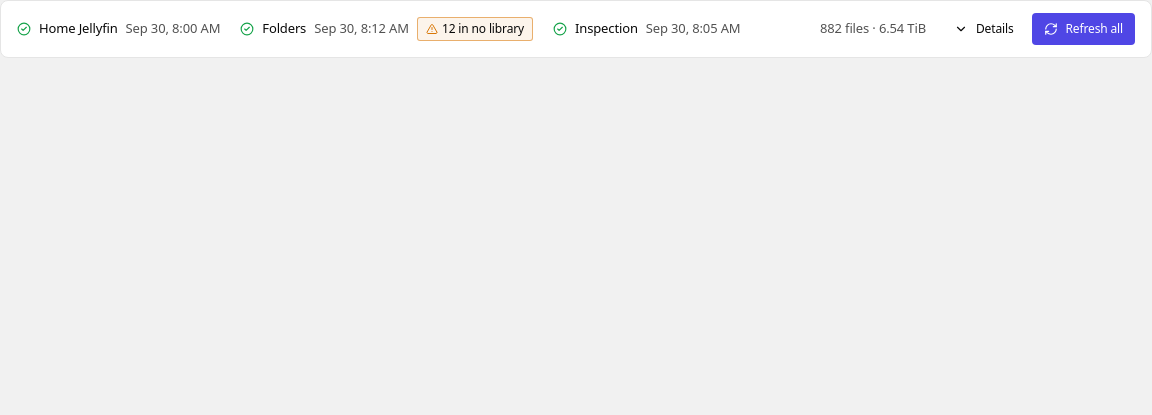
Test: LibrarySyncPanel space › counts a file two hardlinks lead to once in its source's row, under the files line
Click the button "Details". click: {"x": 984, "y": 29}
box: x1=942 y1=13 x2=1026 y2=45
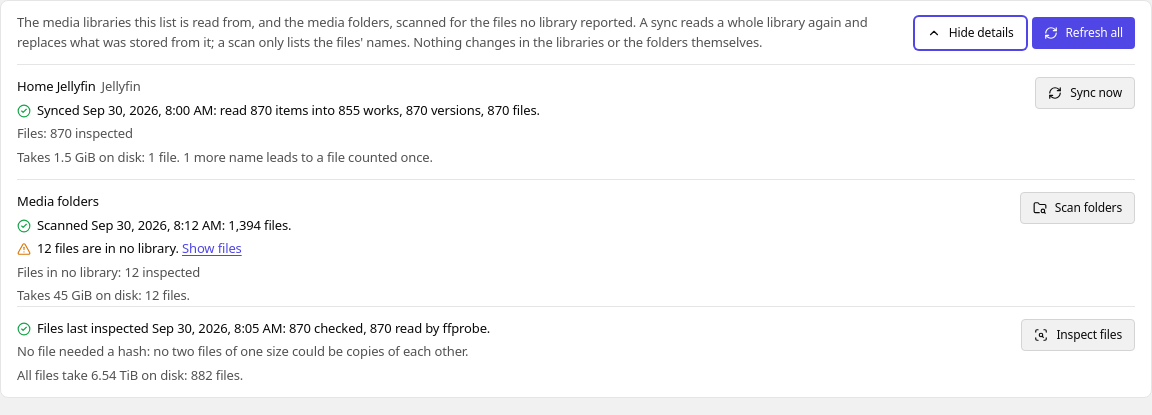
Expected: the text "Files: 870 inspected" is shown, x1=17 y1=124 x2=133 y2=142
